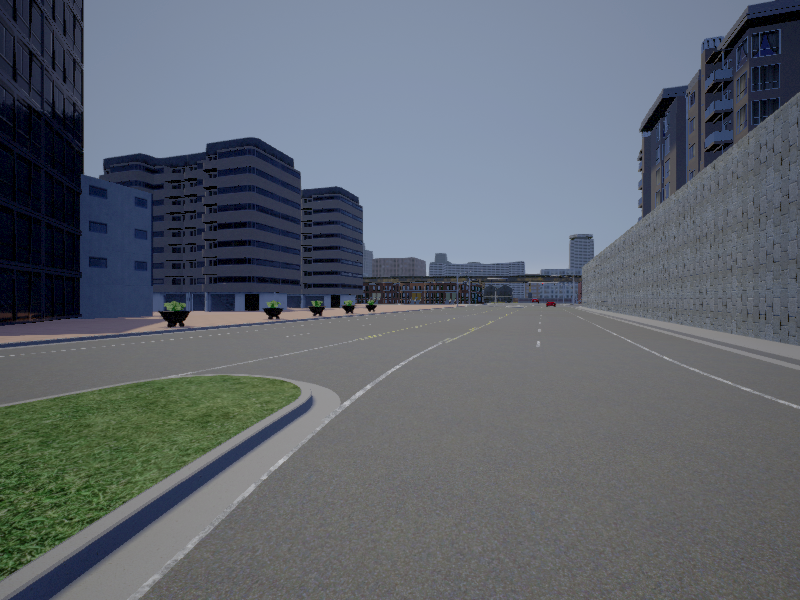Attacker: (531, 296, 539, 304)
Benign: (546, 299, 560, 308)
